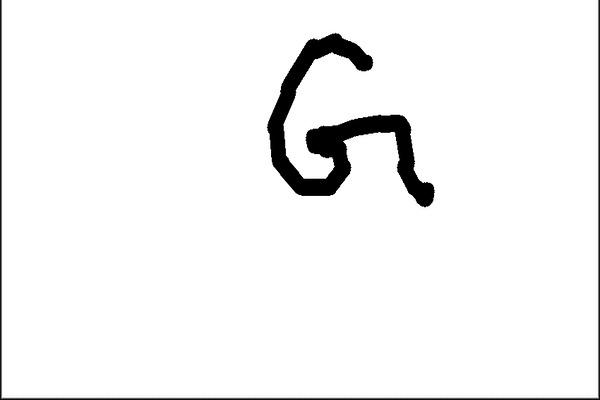G: (262, 29, 436, 212)
